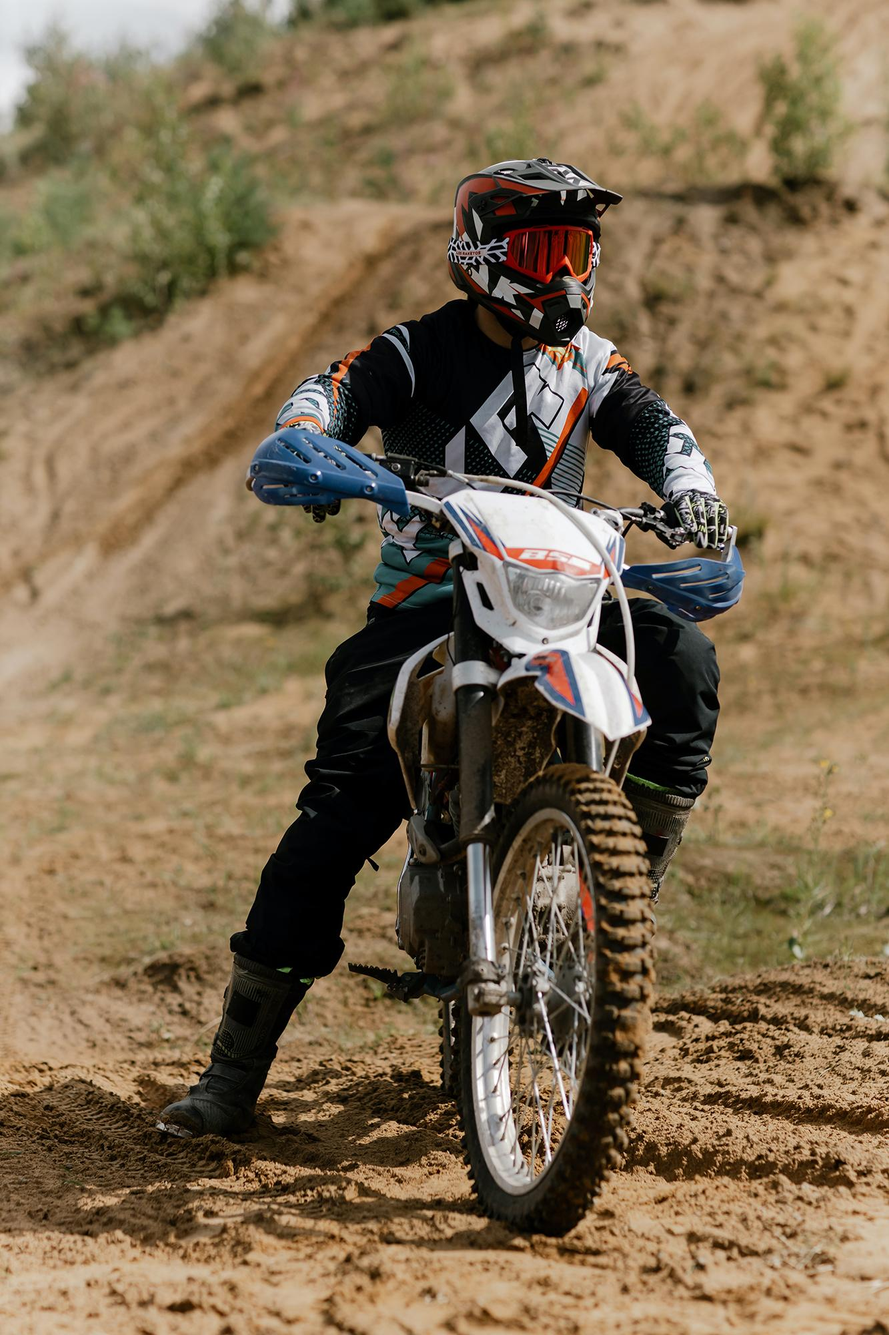helmet: (446, 156, 624, 348)
